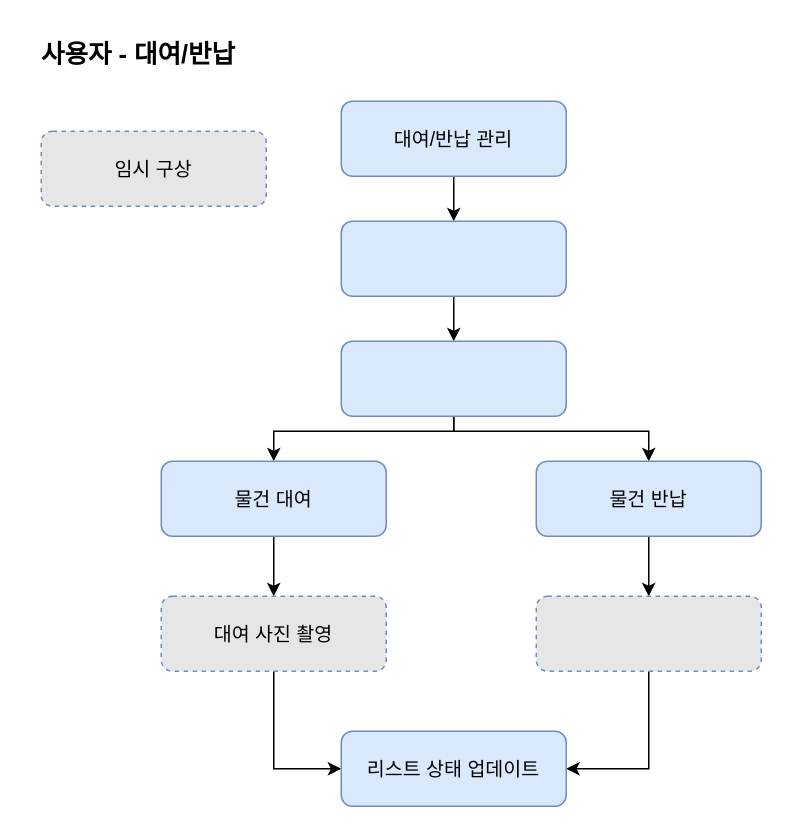
The diagram is 788 pixels wide and 833 high, and some of its shapes have lost their labels. Each missing label, with the centre of its shape:
"물건 QR 리드" goes at [453,258].
"반납 사진 촬영" goes at [648,633].
"해당 물건의 대여/반납 판단" goes at [453,378].
